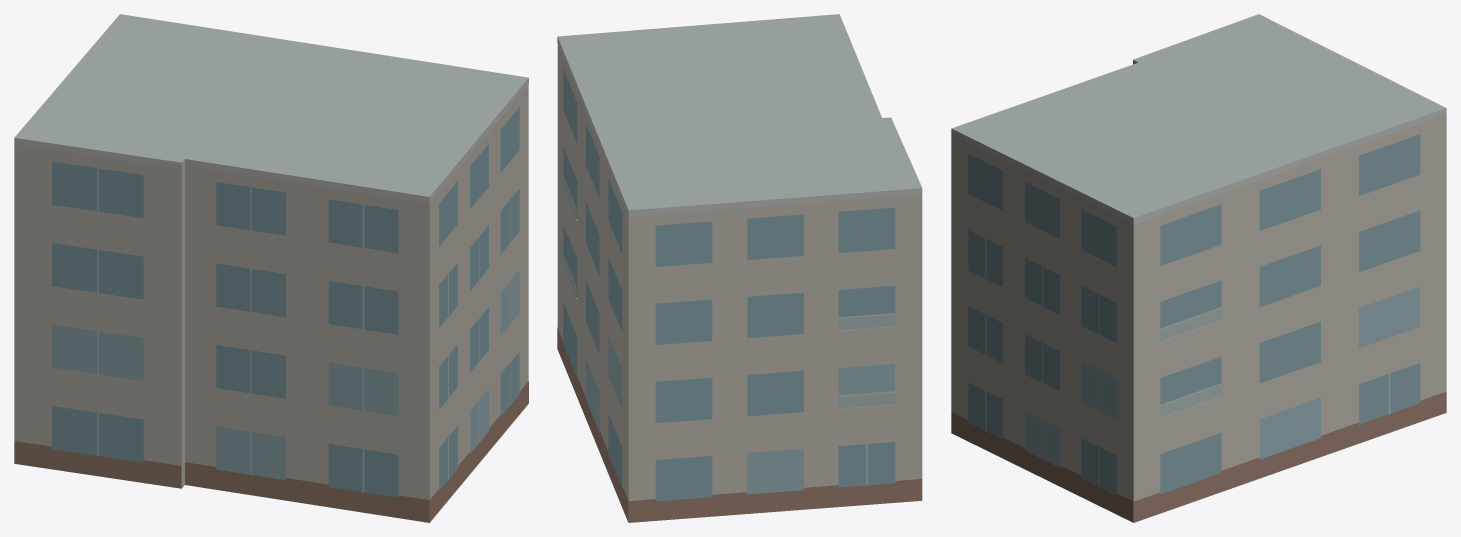
The model's file is survey-upis-32745768.glb.
3 renders of one model, left to right at view 1: azimuth 30°, elevation 25°; view 2: azimuth 150°, elevation 25°; view 3: azimuth 270°, elevation 25°, orthographic. The views are drawn at different scales.
Visible parts, largest first — view 1: survey-upis-32745768.tmp; view 2: survey-upis-32745768.tmp; view 3: survey-upis-32745768.tmp.
Part boxes in pixels (x1,y1,x2,y2): survey-upis-32745768.tmp: (14, 14, 528, 522); survey-upis-32745768.tmp: (557, 14, 922, 522); survey-upis-32745768.tmp: (951, 14, 1446, 522).
Bounding box in the file's own units: 17.5 × 12.18 × 17.94.
